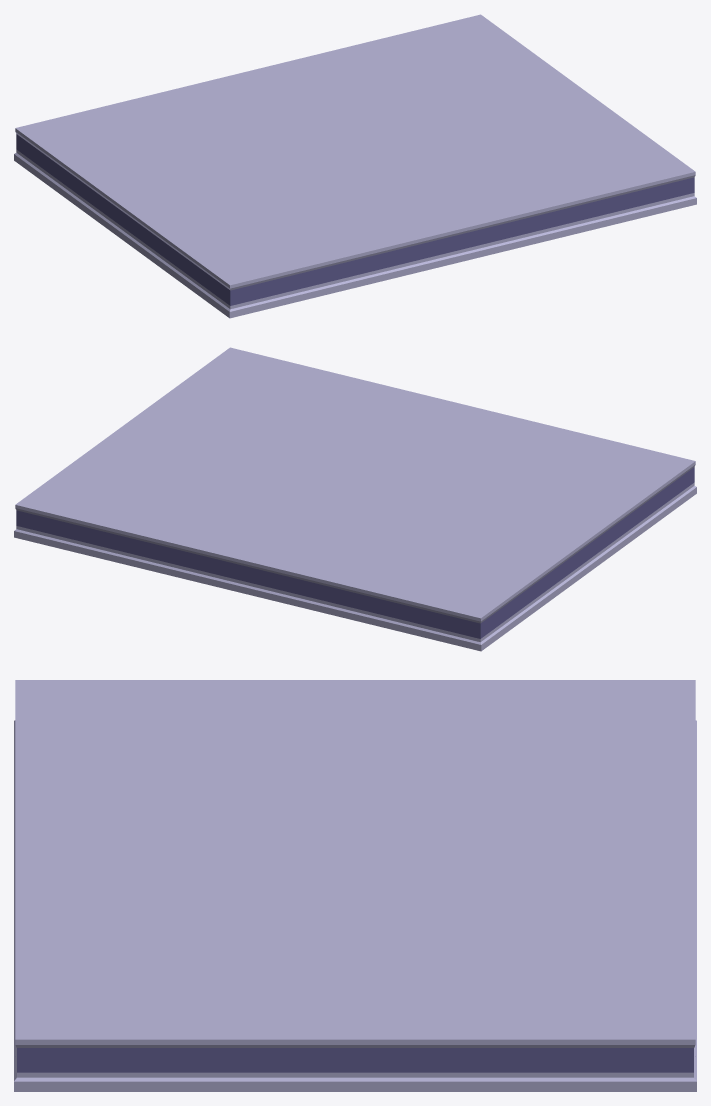
The model's file is Level02.fbx.
3 views of the same model, one above another, from view 1: azimuth 30°, elevation 25°; view 2: azimuth 150°, elevation 25°; view 3: azimuth 270°, elevation 25° (orthographic). The views are drawn at different scales.
Parts seen in each view (by area): view 1: mergedBlocks; view 2: mergedBlocks; view 3: mergedBlocks.
Part boxes in pixels (<box>): mergedBlocks: <box>14,14,696,318</box>; mergedBlocks: <box>14,347,696,651</box>; mergedBlocks: <box>14,680,696,1091</box>.
Bounding box in the file's own units: 150 × 10 × 120.
